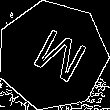M_SW: (20, 23, 85, 88)
